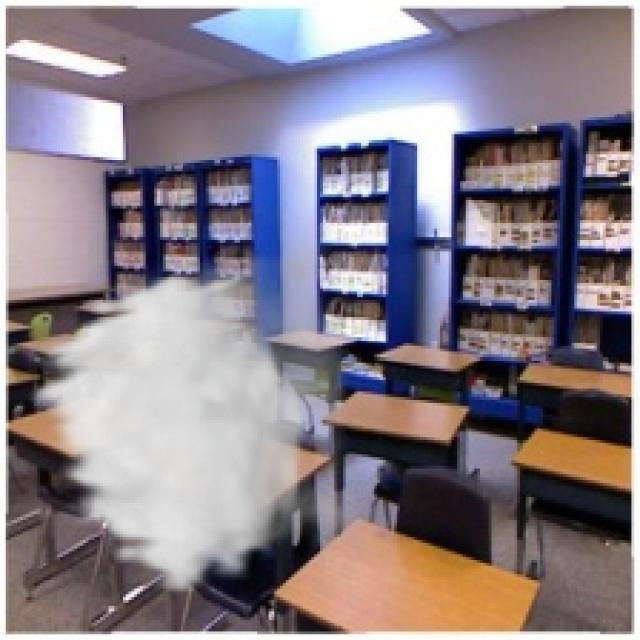Smoke: (22, 202, 374, 598)
